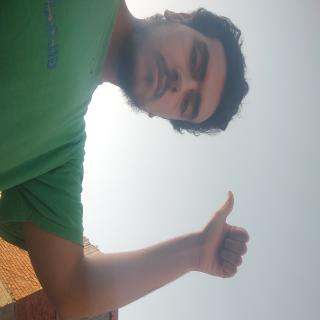DAD: (138, 88, 211, 168)
